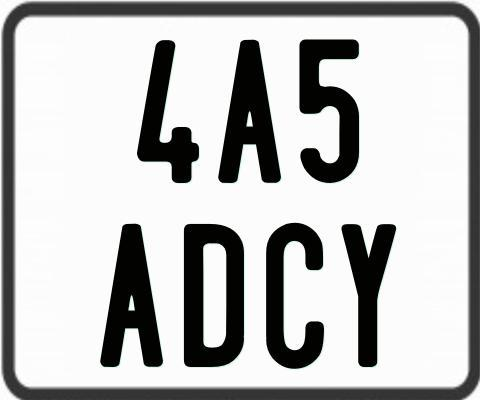4: (136, 40, 203, 189)
5: (296, 38, 357, 188)
A: (216, 39, 285, 187), (99, 223, 166, 371)
C: (263, 221, 327, 369)
D: (184, 223, 244, 372)
Y: (340, 223, 399, 367)
